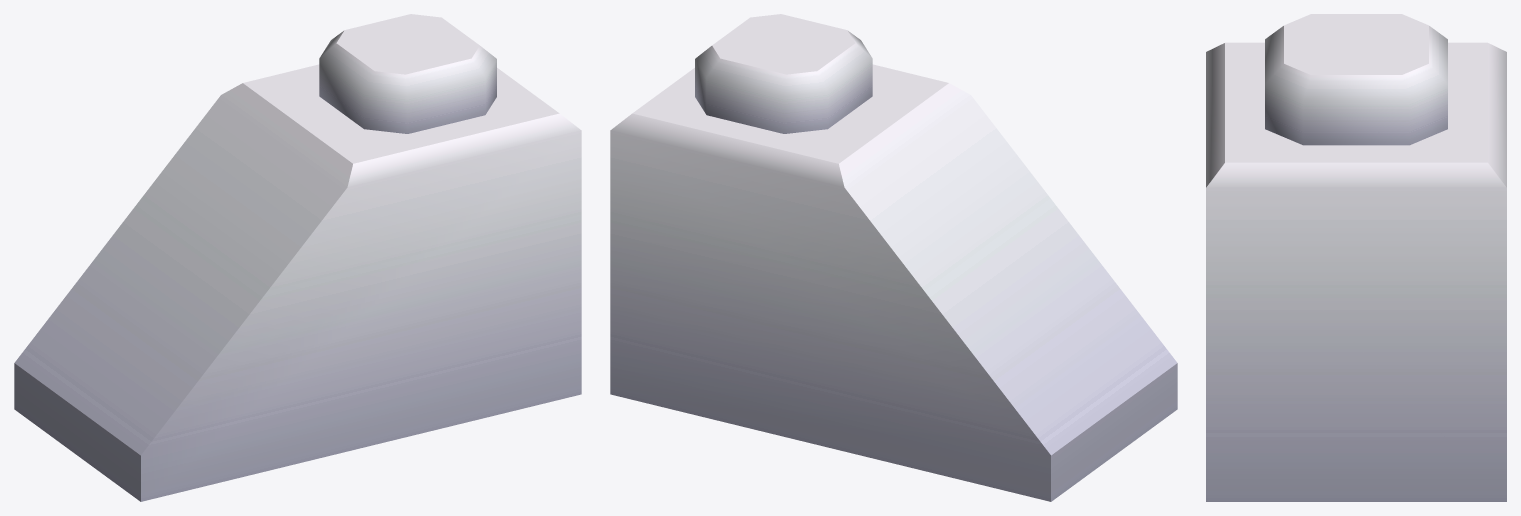
The model's file is bevel-hq-brick-slope-1x2.glb.
3 views of the same model, side by side, from view 1: azimuth 30°, elevation 25°; view 2: azimuth 150°, elevation 25°; view 3: azimuth 270°, elevation 25° (orthographic). The views are drawn at different scales.
Parts seen in each view (by area): view 1: bevel-hq-brick-slope-1x2; view 2: bevel-hq-brick-slope-1x2; view 3: bevel-hq-brick-slope-1x2.
Part boxes in pixels (bbox=[...]): bevel-hq-brick-slope-1x2: bbox=[14, 14, 581, 501]; bevel-hq-brick-slope-1x2: bbox=[610, 14, 1177, 501]; bevel-hq-brick-slope-1x2: bbox=[1206, 14, 1506, 501].
Size of the model in its own units: 0.159 by 0.114 by 0.079.
Materials: 1 (1 with a texture image).
